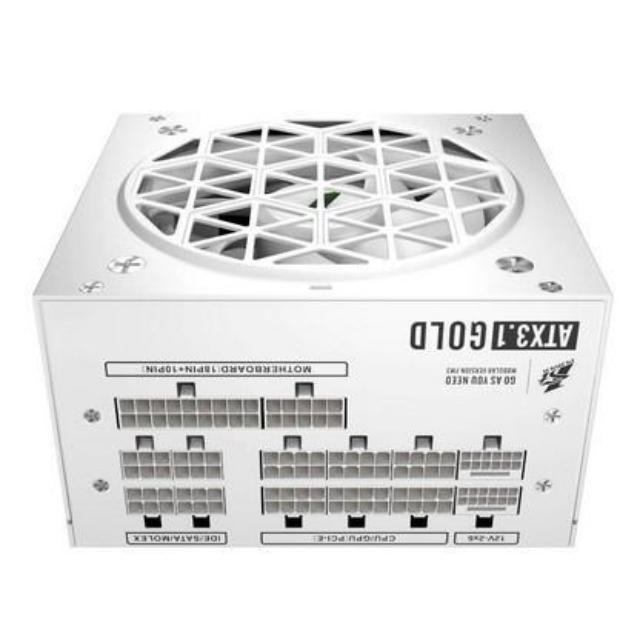PSU: (30, 95, 615, 568)
